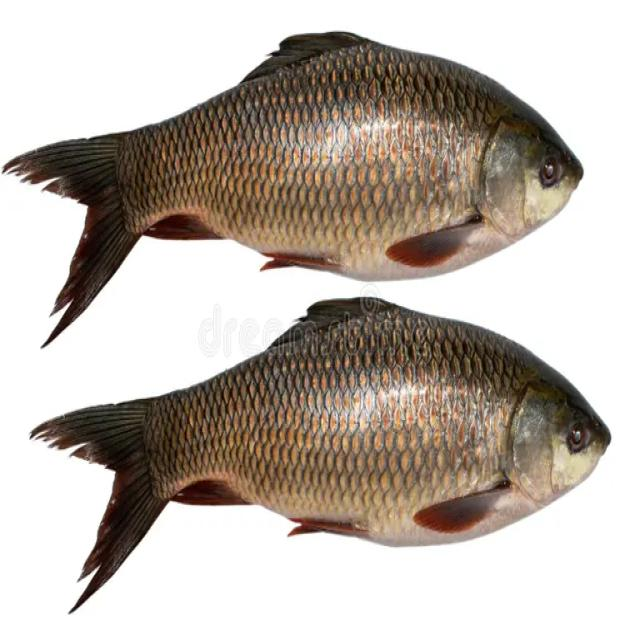Rohu: (3, 31, 585, 348), (30, 298, 612, 613)
